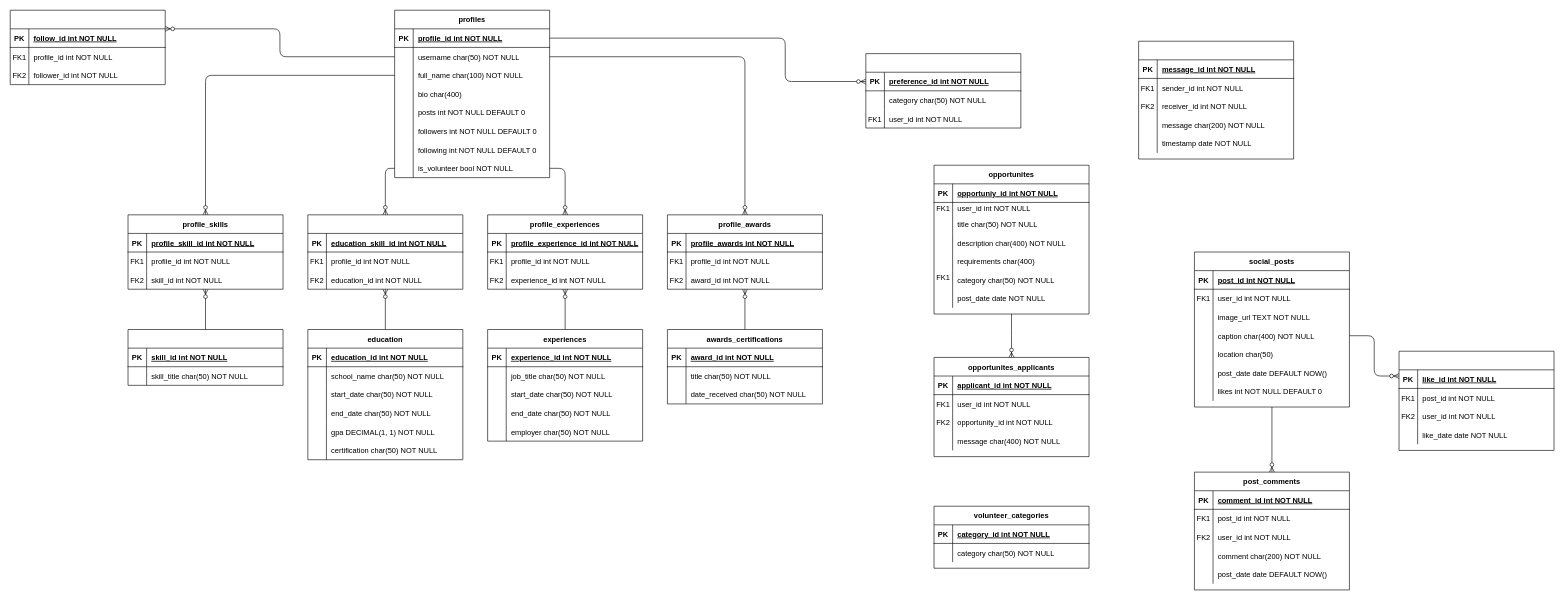
This 1564x600 diagram has some shape labels left out. Each missing label, with the box of its shape:
messages: (1138, 41, 1294, 159)
post_likes: (1398, 351, 1554, 450)
profile_education: (307, 214, 463, 289)
profile_follows: (10, 10, 165, 85)
profile_preferences: (865, 53, 1021, 128)
skills: (127, 329, 283, 385)
